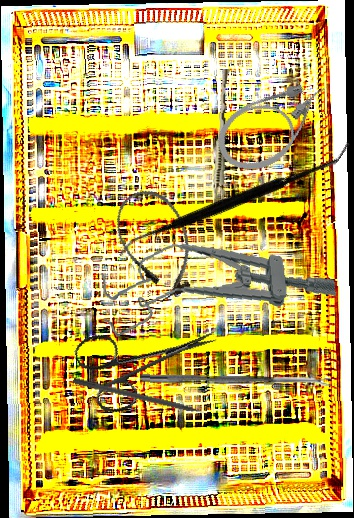Cannula: (207, 69, 344, 183), (105, 180, 208, 309)
Iris Scissors: (71, 296, 229, 420)
Pusher: (72, 377, 219, 421)
Spatula Surgical: (117, 70, 350, 328)
Speculum: (97, 227, 338, 339)
Surgical Spoon: (139, 374, 332, 387)
Tissue Forceps: (211, 68, 231, 215)
